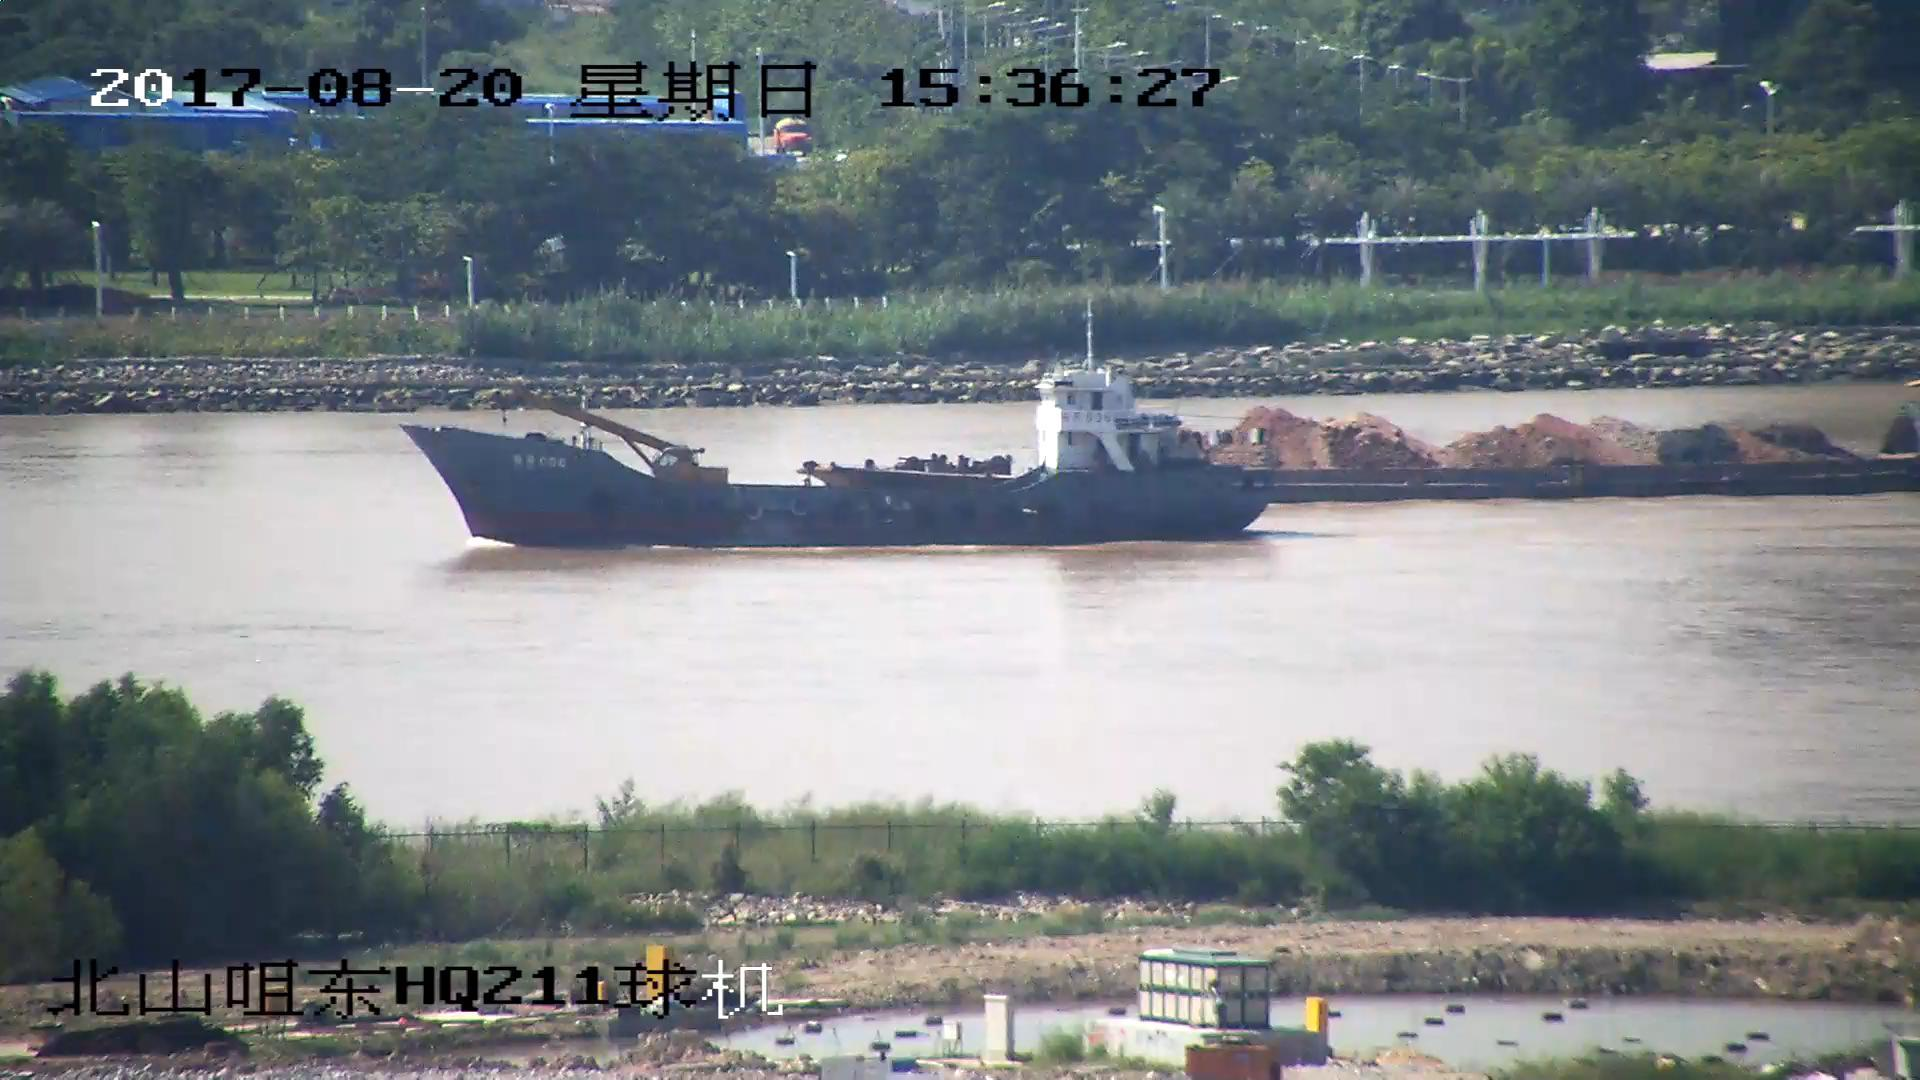Ship: (409, 257, 1262, 542), (798, 389, 1920, 498)
